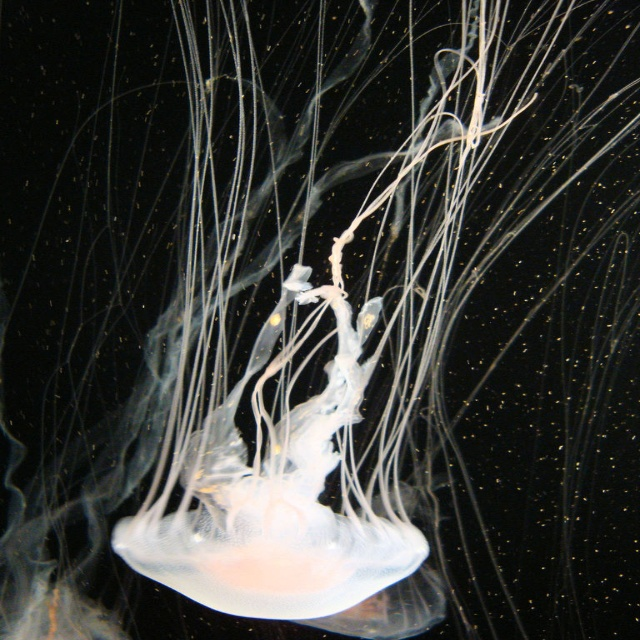Jellyfish: (2, 0, 639, 639)
